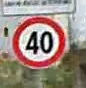limite 40: (10, 16, 66, 69)
